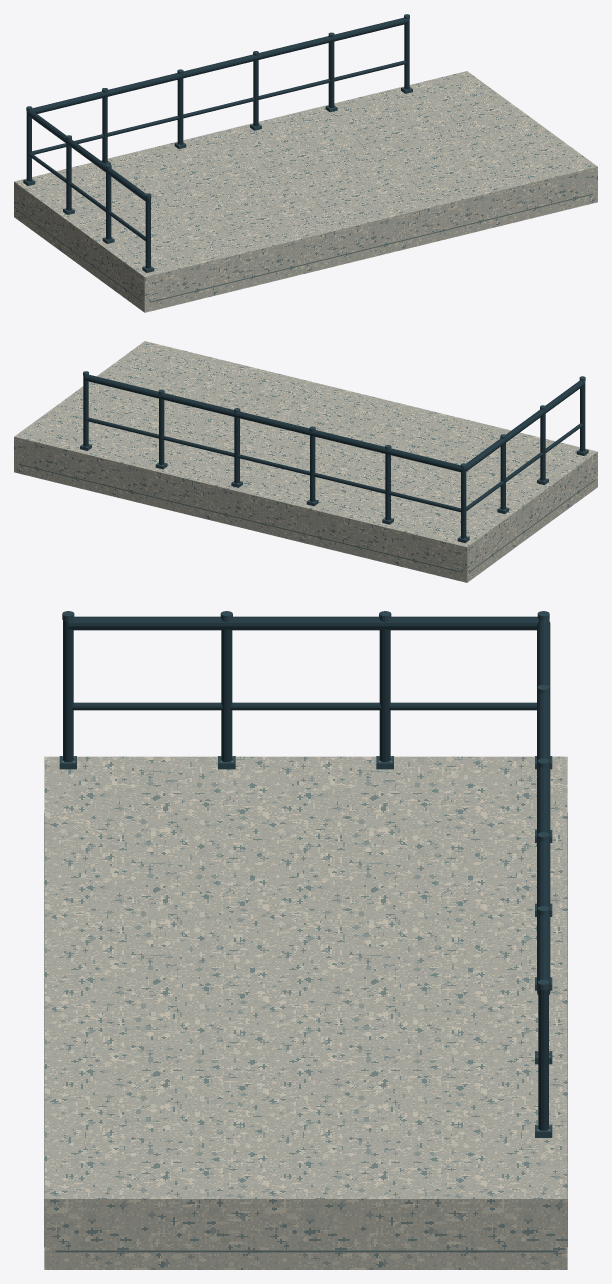
File: b_platform_start.glb
3 views of the same model, one above another, from view 1: azimuth 30°, elevation 25°; view 2: azimuth 150°, elevation 25°; view 3: azimuth 270°, elevation 25° (orthographic). The views are drawn at different scales.
Parts seen in each view (by area): view 1: b_platform_start, b_platform_start_guard_1_top, b_platform_start_guard_1_low, b_platform_start_guard_0_top, b_platform_start_front_reveal_1, b_platform_start_guard_0_low, b_platform_start_guard_1_post_2, b_platform_start_guard_1_post_4, b_platform_start_guard_0_post_3, b_platform_start_guard_1_post_5; view 2: b_platform_start, b_platform_start_guard_1_top, b_platform_start_guard_1_low, b_platform_start_guard_0_top, b_platform_start_front_reveal_-1, b_platform_start_guard_0_low, b_platform_start_guard_0_post_0, b_platform_start_guard_1_post_5, b_platform_start_guard_1_post_1, b_platform_start_guard_1_post_3, b_platform_start_guard_1_post_2, b_platform_start_guard_1_post_4 (+3 smaller); view 3: b_platform_start, b_platform_start_guard_0_top, b_platform_start_guard_1_top, b_platform_start_guard_0_low, b_platform_start_guard_0_post_1, b_platform_start_guard_0_post_2, b_platform_start_guard_1_post_5, b_platform_start_side_reveal_1, b_platform_start_guard_0_post_3.
Part boxes in pixels (x1,y1,x2,y2): b_platform_start: (14,71,597,312); b_platform_start_guard_1_top: (32,17,408,113); b_platform_start_guard_1_low: (32,60,406,154); b_platform_start_guard_0_top: (26,110,145,201); b_platform_start_front_reveal_1: (149,193,593,302); b_platform_start_guard_0_low: (28,153,145,240); b_platform_start_guard_1_post_2: (177,74,183,144); b_platform_start_guard_1_post_4: (328,37,334,107); b_platform_start_guard_0_post_3: (145,198,150,268); b_platform_start_guard_1_post_5: (404,19,409,89); b_platform_start: (14,341,597,582); b_platform_start_guard_1_top: (84,374,462,472); b_platform_start_guard_1_low: (86,417,461,512); b_platform_start_guard_0_top: (466,380,585,471); b_platform_start_front_reveal_-1: (18,464,462,572); b_platform_start_guard_0_low: (466,423,583,510); b_platform_start_guard_0_post_0: (461,468,466,538); b_platform_start_guard_1_post_5: (83,376,88,446); b_platform_start_guard_1_post_1: (385,450,390,520); b_platform_start_guard_1_post_3: (234,413,239,483); b_platform_start_guard_1_post_2: (310,431,315,501); b_platform_start_guard_1_post_4: (159,394,164,464); b_platform_start: (44,756,567,1269); b_platform_start_guard_0_top: (68,616,539,630); b_platform_start_guard_1_top: (537,620,550,994); b_platform_start_guard_0_low: (72,702,536,710); b_platform_start_guard_0_post_1: (379,621,390,761); b_platform_start_guard_0_post_2: (221,621,232,761); b_platform_start_guard_1_post_5: (538,989,548,1130); b_platform_start_side_reveal_1: (55,1250,556,1252); b_platform_start_guard_0_post_3: (63,620,73,761).
Size of the model in its own units: 4.8 by 1.13 by 2.4.
Materials: 5 (1 with a texture image).
